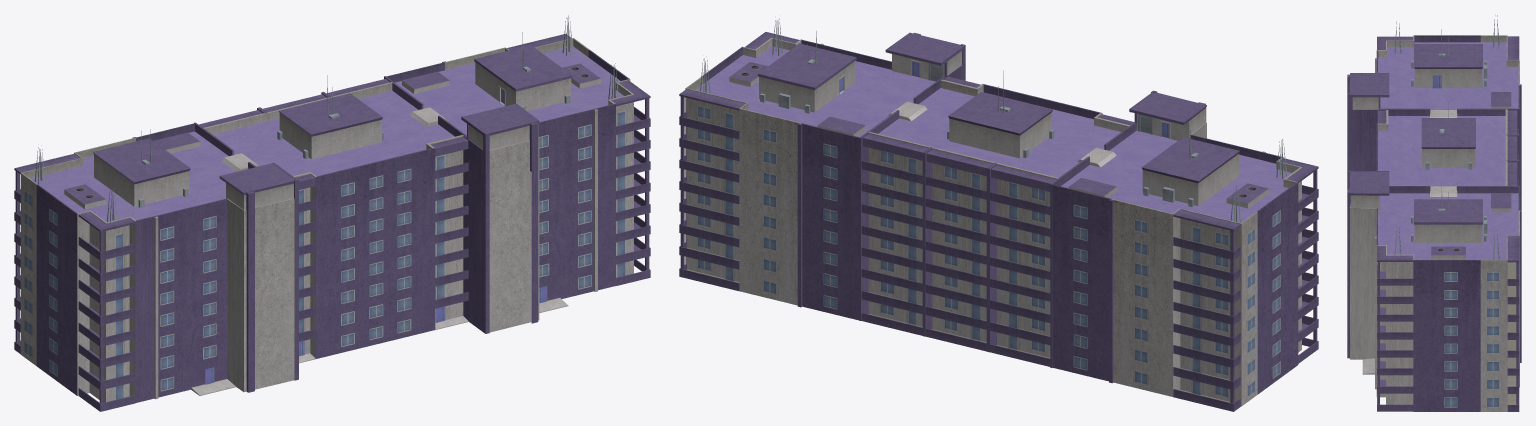
Rendered from ORB_6_Combi_S7_Detail_2.fbx.
3 renders of one model, left to right at view 1: azimuth 30°, elevation 25°; view 2: azimuth 150°, elevation 25°; view 3: azimuth 270°, elevation 25°, orthographic. The views are drawn at different scales.
Visible parts, largest first — view 1: ORB_6_Combi_S7_Detail_2; view 2: ORB_6_Combi_S7_Detail_2; view 3: ORB_6_Combi_S7_Detail_2.
Boxes of the visible parts, x1=… form: ORB_6_Combi_S7_Detail_2: x1=14, y1=15, x2=650, y2=411; ORB_6_Combi_S7_Detail_2: x1=679, y1=18, x2=1318, y2=411; ORB_6_Combi_S7_Detail_2: x1=1347, y1=15, x2=1521, y2=411.
Size of the model in its own units: 7854 by 3350 by 2563.
